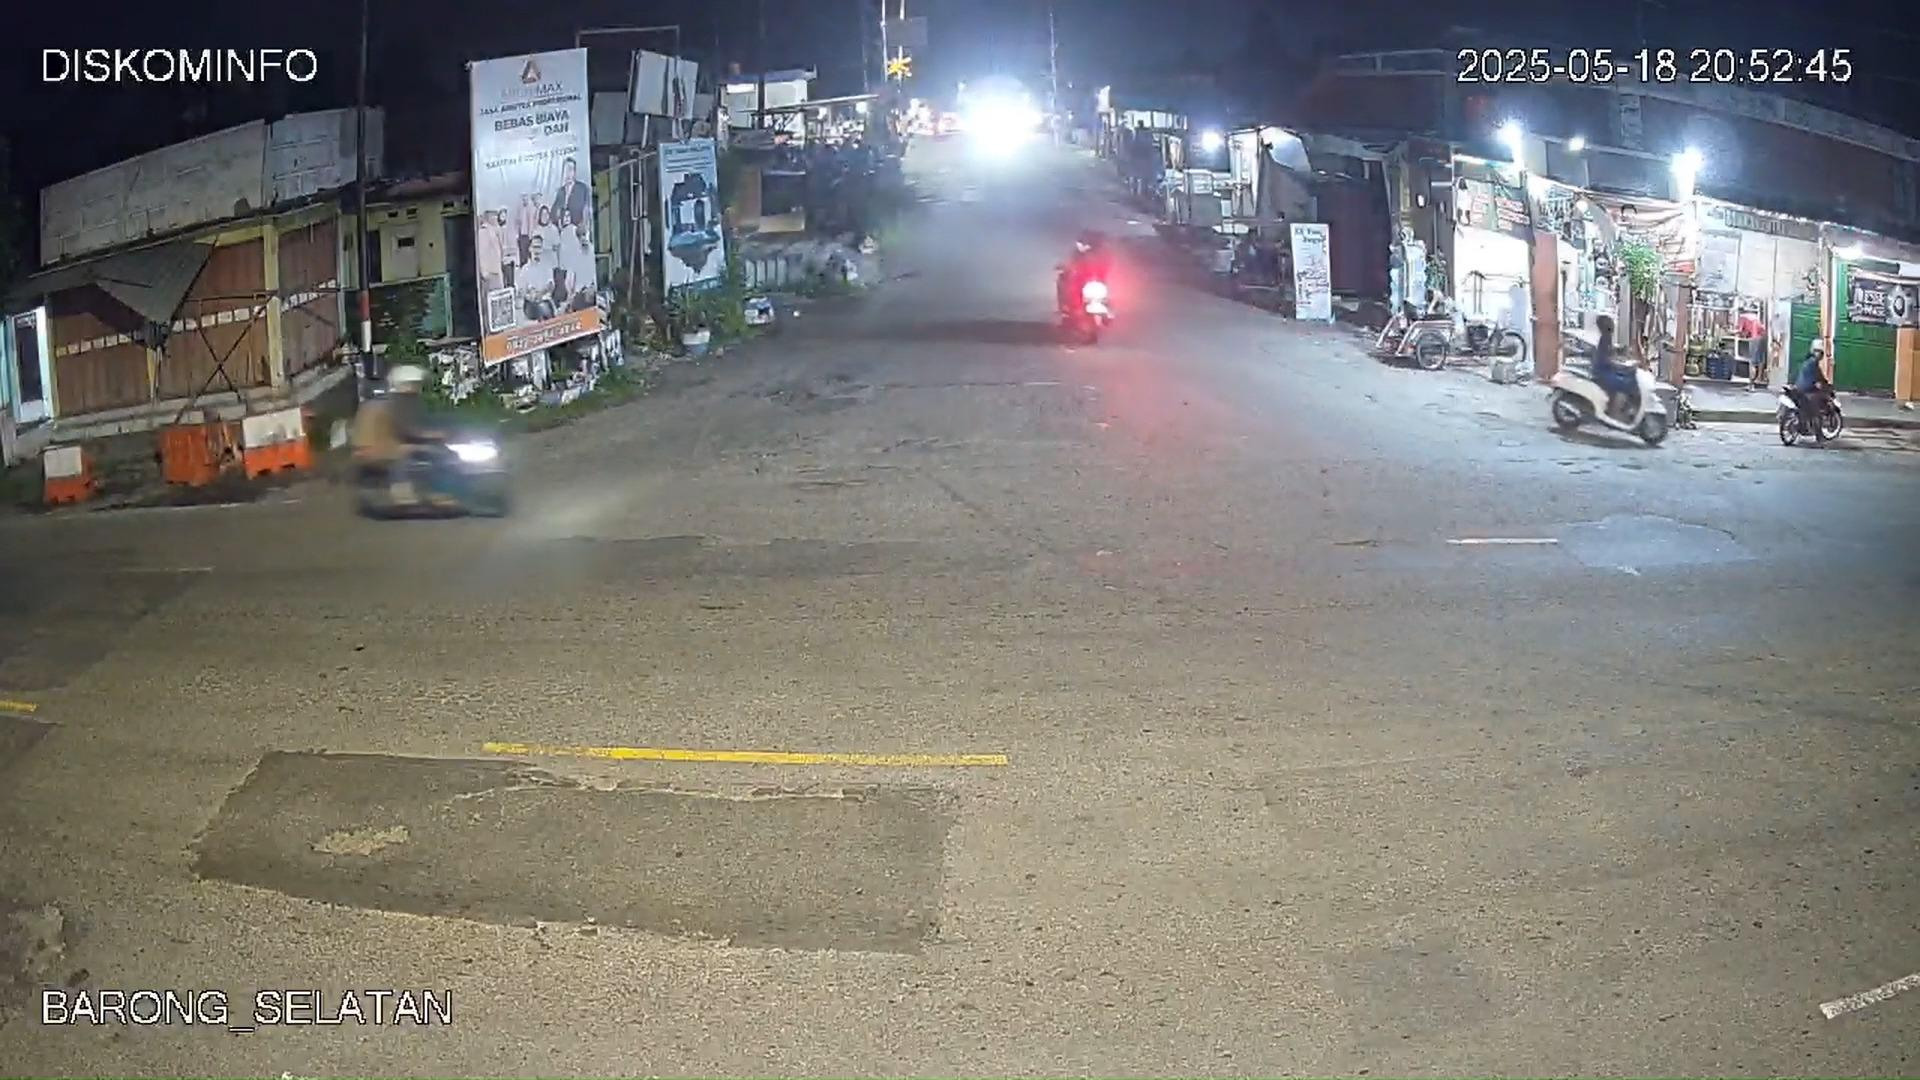Motor: (1055, 231, 1114, 342), (1778, 338, 1837, 443)
